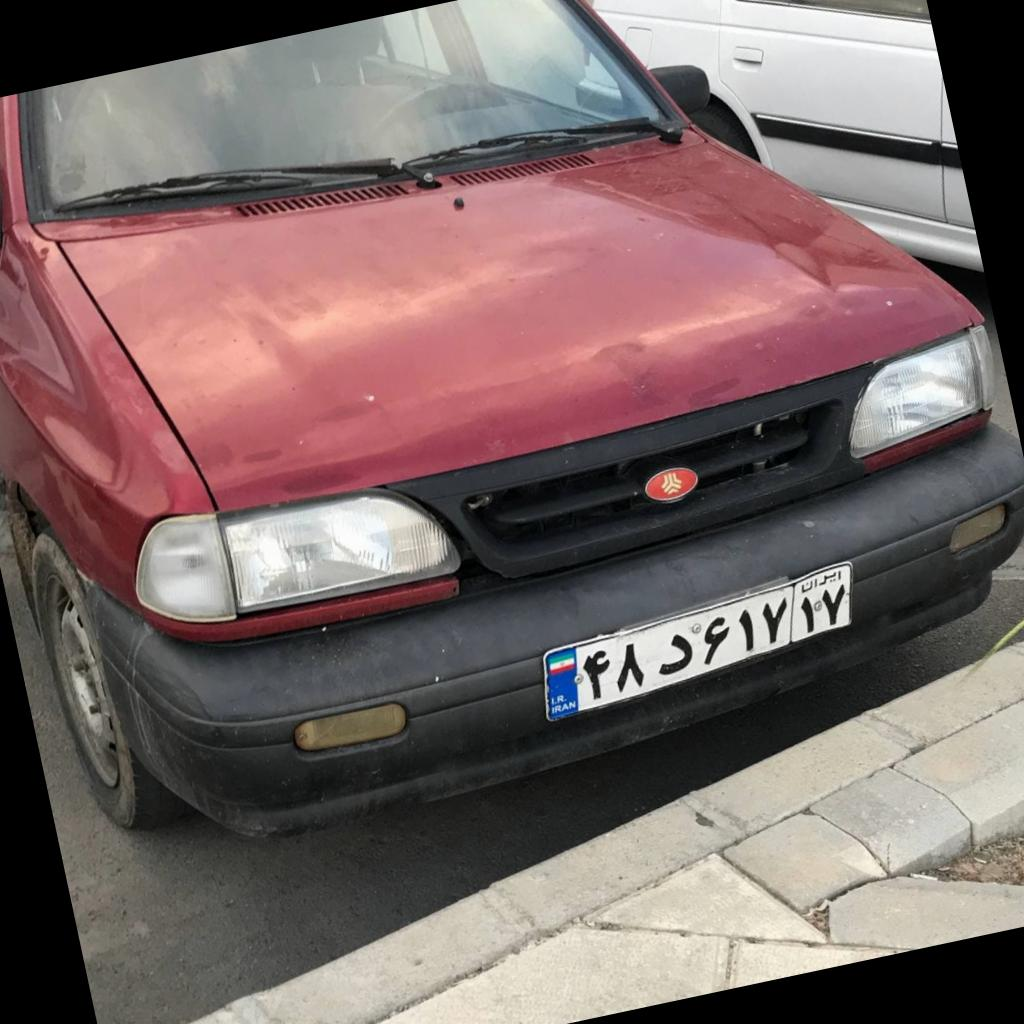Plates: (543, 561, 851, 721)
